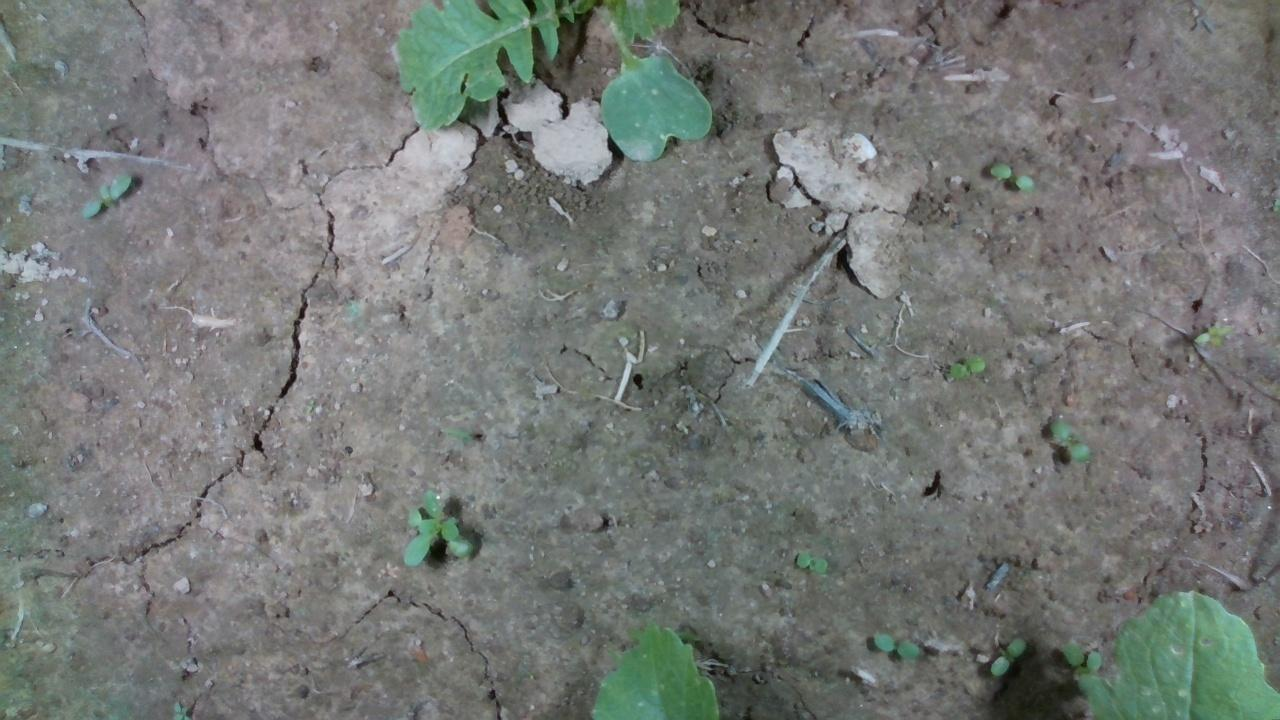weed: (79, 171, 131, 219), (1049, 417, 1090, 461), (988, 160, 1034, 193), (989, 635, 1026, 676), (870, 631, 920, 660), (1193, 323, 1234, 344), (947, 356, 984, 378), (795, 551, 828, 574)
